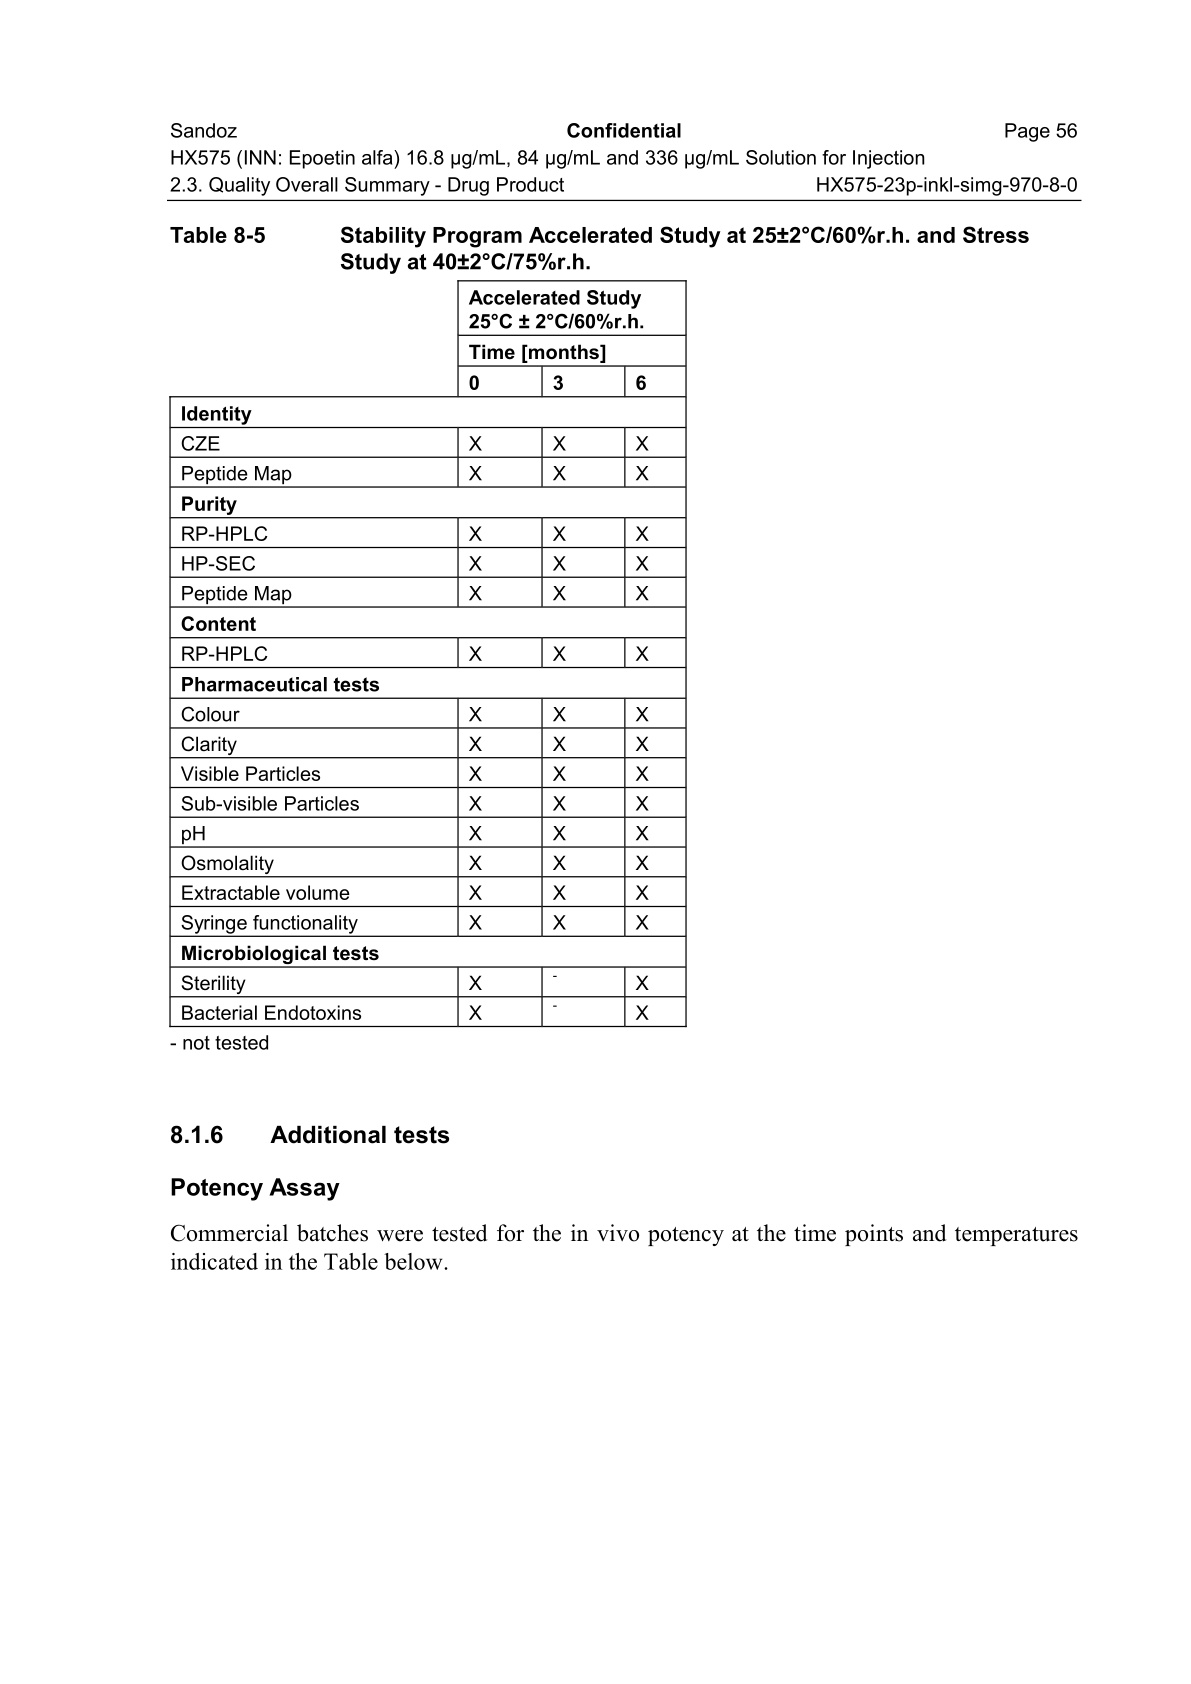merged_cells: (168, 280, 687, 1028)
